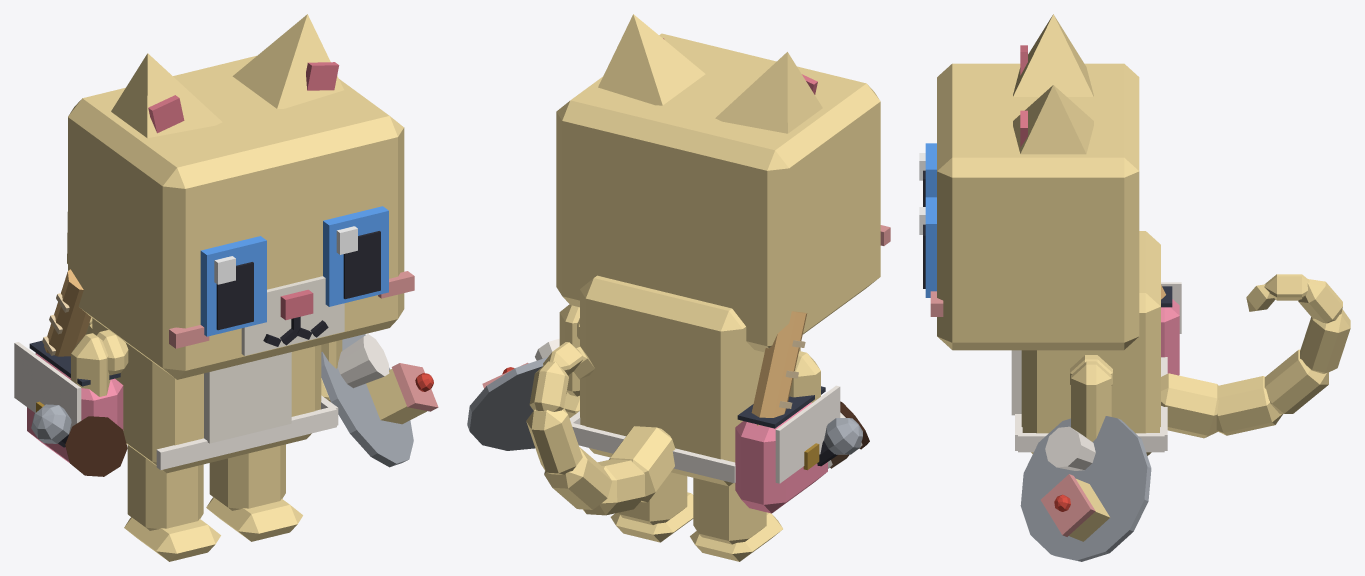
Rendered from CatCafe_Cat_Butter_Work.glb.
3 renders of one model, left to right at view 1: azimuth 30°, elevation 25°; view 2: azimuth 150°, elevation 25°; view 3: azimuth 270°, elevation 25°, orthographic. The views are drawn at different scales.
Parts seen in each view (by area): view 1: CatCafe_Cat_Butter_Work_Head, CatCafe_Cat_Butter_Work_Body, CatCafe_Cat_Butter_Work_Held_Waiter, CatCafe_Cat_Butter_Work_LegB2, CatCafe_Cat_Butter_Work_LegB1, CatCafe_Cat_Butter_Work_Eye2, CatCafe_Cat_Butter_Work_Eye1, CatCafe_Cat_Butter_Work_EarL, CatCafe_Cat_Butter_Work_EarR, CatCafe_Cat_Butter_Work_Held_Barista, CatCafe_Cat_Butter_Work_LegF2, CatCafe_Cat_Butter_Work_Held_Entertainer; view 2: CatCafe_Cat_Butter_Work_Head, CatCafe_Cat_Butter_Work_Body, CatCafe_Cat_Butter_Work_Tail, CatCafe_Cat_Butter_Work_EarL, CatCafe_Cat_Butter_Work_LegB2, CatCafe_Cat_Butter_Work_Held_Waiter, CatCafe_Cat_Butter_Work_EarR, CatCafe_Cat_Butter_Work_LegB1, CatCafe_Cat_Butter_Work_Held_Entertainer, CatCafe_Cat_Butter_Work_LegF1, CatCafe_Cat_Butter_Work_LegF2; view 3: CatCafe_Cat_Butter_Work_Head, CatCafe_Cat_Butter_Work_Body, CatCafe_Cat_Butter_Work_Held_Waiter, CatCafe_Cat_Butter_Work_Tail, CatCafe_Cat_Butter_Work_EarL, CatCafe_Cat_Butter_Work_EarR, CatCafe_Cat_Butter_Work_LegF1, CatCafe_Cat_Butter_Work_Eye1, CatCafe_Cat_Butter_Work_Eye2.
Part boxes in pixels (x1,y1,x2,y2): CatCafe_Cat_Butter_Work_Head: (68,55,414,379); CatCafe_Cat_Butter_Work_Body: (14,269,338,473); CatCafe_Cat_Butter_Work_Held_Waiter: (321,334,438,467); CatCafe_Cat_Butter_Work_LegB2: (124,445,220,561); CatCafe_Cat_Butter_Work_LegB1: (206,444,302,541); CatCafe_Cat_Butter_Work_Eye2: (200,236,266,336); CatCafe_Cat_Butter_Work_Eye1: (323,206,388,306); CatCafe_Cat_Butter_Work_EarL: (232,14,343,108); CatCafe_Cat_Butter_Work_EarR: (111,53,222,138); CatCafe_Cat_Butter_Work_Held_Barista: (65,416,127,476); CatCafe_Cat_Butter_Work_LegF2: (71,333,110,396); CatCafe_Cat_Butter_Work_Held_Entertainer: (31,404,71,447); CatCafe_Cat_Butter_Work_Head: (556,33,890,352); CatCafe_Cat_Butter_Work_Body: (569,275,840,513); CatCafe_Cat_Butter_Work_Tail: (526,342,675,515); CatCafe_Cat_Butter_Work_EarL: (598,14,705,105); CatCafe_Cat_Butter_Work_LegB2: (690,478,782,561); CatCafe_Cat_Butter_Work_Held_Waiter: (467,338,559,450); CatCafe_Cat_Butter_Work_EarR: (715,52,822,133); CatCafe_Cat_Butter_Work_LegB1: (610,472,693,542); CatCafe_Cat_Butter_Work_Held_Entertainer: (817,418,862,466); CatCafe_Cat_Butter_Work_LegF1: (559,304,579,418); CatCafe_Cat_Butter_Work_LegF2: (789,351,820,402); CatCafe_Cat_Butter_Work_Head: (930,63,1139,350); CatCafe_Cat_Butter_Work_Body: (1011,231,1181,455); CatCafe_Cat_Butter_Work_Held_Waiter: (1020,416,1151,561); CatCafe_Cat_Butter_Work_Tail: (1161,274,1350,438); CatCafe_Cat_Butter_Work_EarL: (1013,85,1093,154); CatCafe_Cat_Butter_Work_EarR: (1013,14,1093,96); CatCafe_Cat_Butter_Work_LegF1: (1071,361,1111,441); CatCafe_Cat_Butter_Work_Eye1: (919,197,936,297); CatCafe_Cat_Butter_Work_Eye2: (919,143,936,206).
Size of the model in its own units: 1.53 by 1.93 by 1.62.
1 material, 1 textured.
